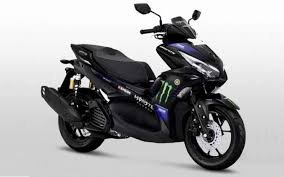motor: (38, 2, 246, 171)
